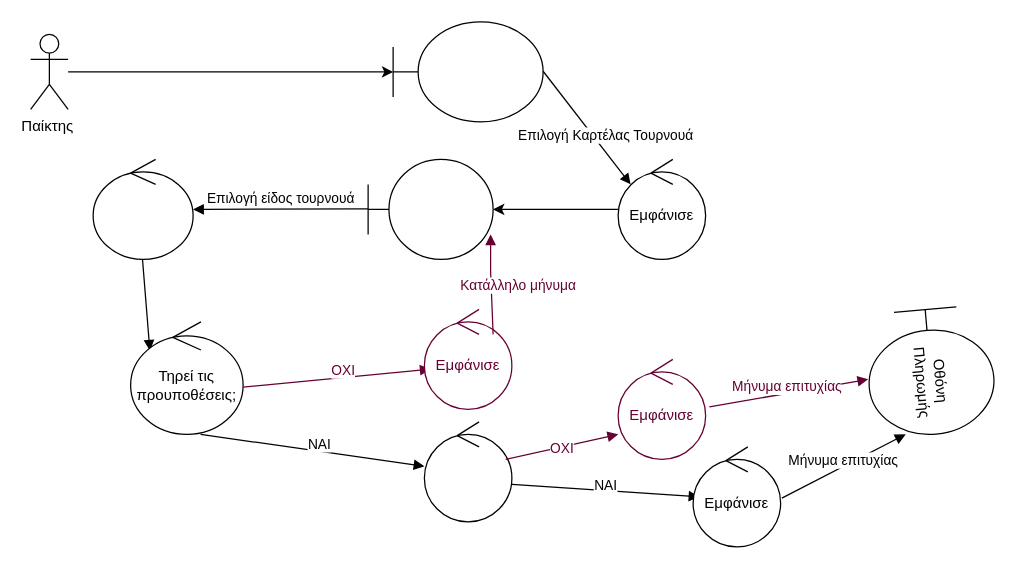
This 1021x569 diagram has some shape labels left out. Here are the shapes that lost their labels. From the top down, the centre of each, then its label:
pixel 467 71: Αρχικό Μενού
pixel 142 208: Επεξεργασία αιτήματος
pixel 430 208: Οθόνη Τουρνουά
pixel 467 471: Πρόσθεσε φίλους
